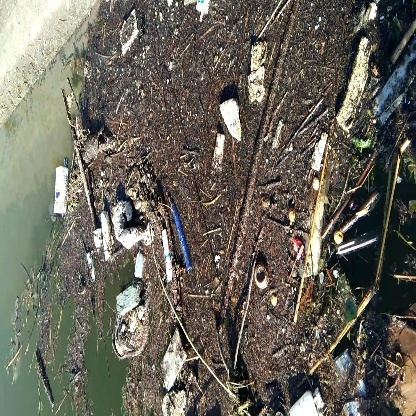milk-box: (46, 163, 74, 217)
plastic-garbage: (109, 286, 156, 360)
